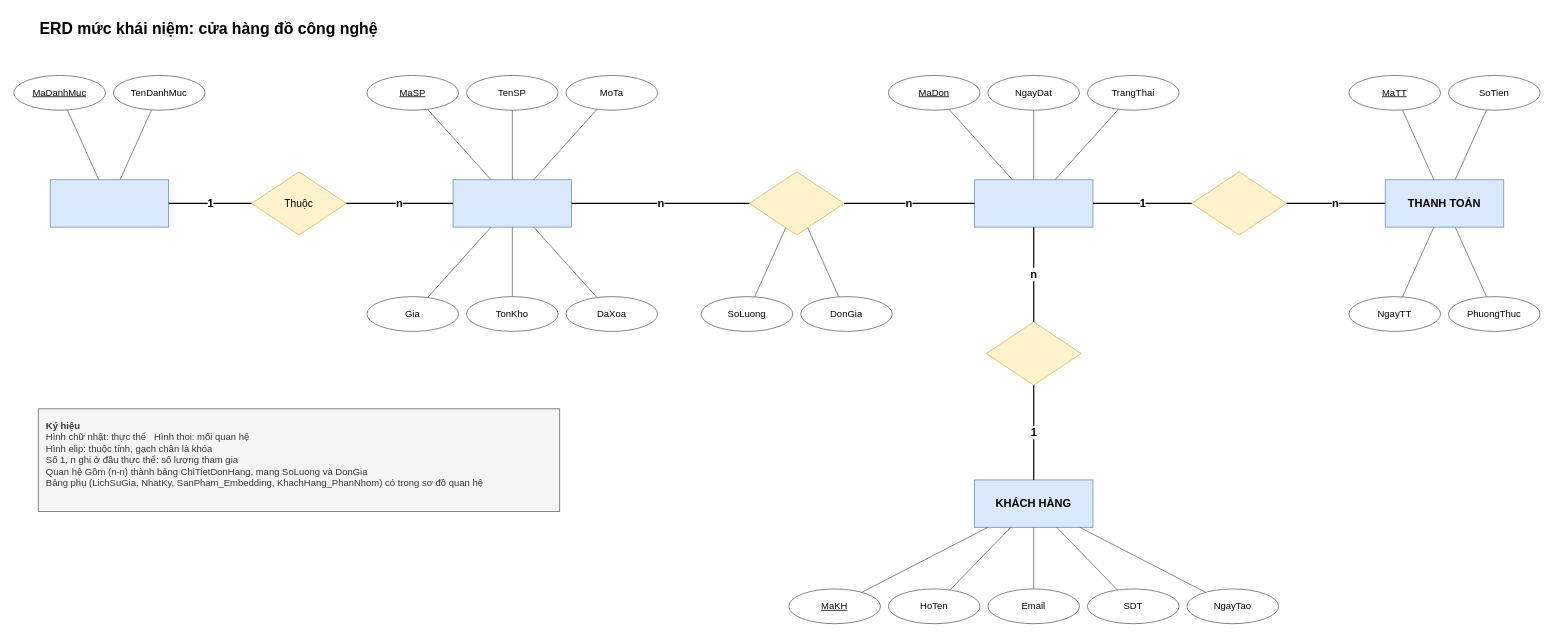
Some shapes in this 1554 by 638 pixel diagram are drawn without their labels. The centre of each missing label's shape, as x and y in pixels:
Có: the point at 1239,203
DANH MỤC: the point at 109,203
Gồm: the point at 796,203
SẢN PHẨM: the point at 512,203
ĐƠN HÀNG: the point at 1033,203
Đặt: the point at 1033,353
